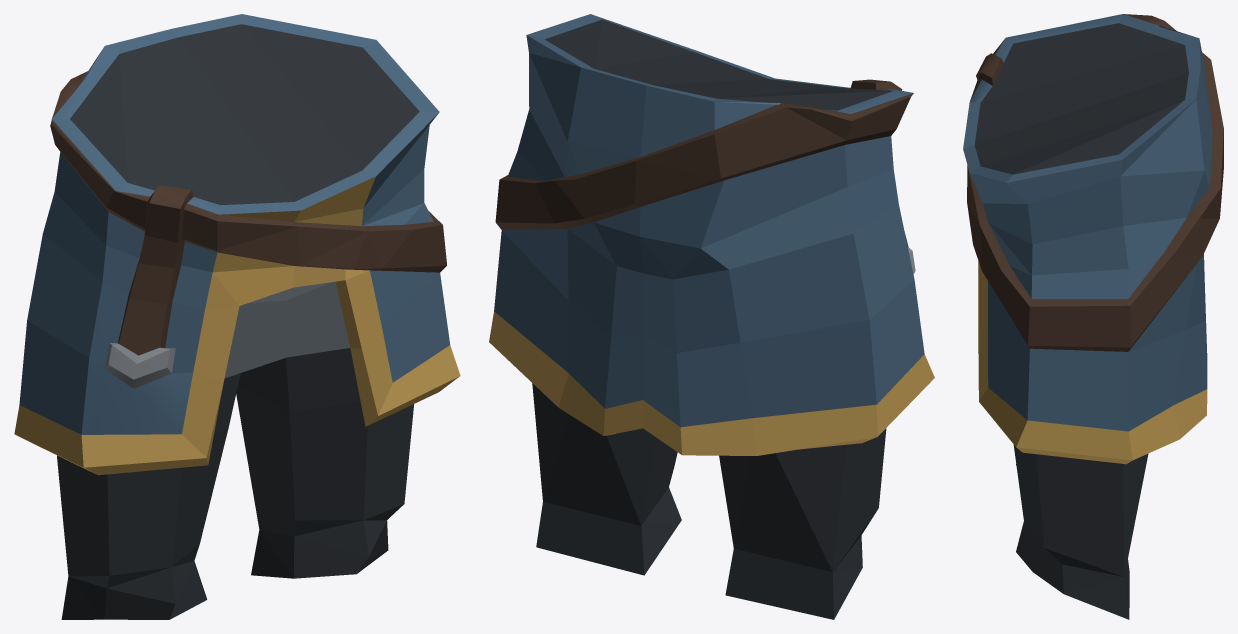
The model's file is Chr_Hips_Female_06_Static.fbx.
3 views of the same model, side by side, from view 1: azimuth 30°, elevation 25°; view 2: azimuth 150°, elevation 25°; view 3: azimuth 270°, elevation 25° (orthographic). The views are drawn at different scales.
Visible parts, largest first — view 1: Chr_Hips_Female_06_Static; view 2: Chr_Hips_Female_06_Static; view 3: Chr_Hips_Female_06_Static.
Part boxes in pixels (x1,y1,x2,y2): Chr_Hips_Female_06_Static: [14, 14, 460, 619]; Chr_Hips_Female_06_Static: [489, 14, 934, 619]; Chr_Hips_Female_06_Static: [963, 14, 1223, 619].
Bounding box in the file's own units: 0.4472 × 0.5806 × 0.2824.
